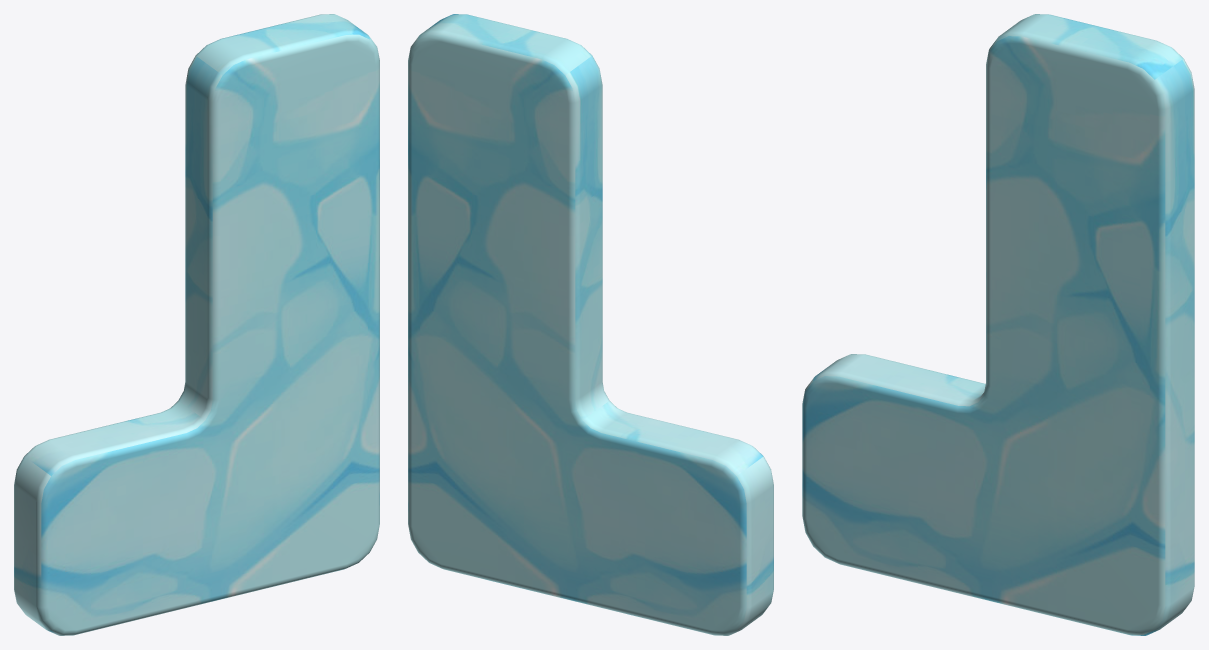
Rendered from Ice_ReverseLShape.fbx.
The picture shows the model from 3 angles, left to right: view 1: azimuth 30°, elevation 25°; view 2: azimuth 150°, elevation 25°; view 3: azimuth 330°, elevation 25°; orthographic projection. The views are drawn at different scales.
Visible parts, largest first — view 1: Ice_ReverseLShape; view 2: Ice_ReverseLShape; view 3: Ice_ReverseLShape.
Boxes of the visible parts, x1,y1,x2,y2 form: Ice_ReverseLShape: (14,14,379,635); Ice_ReverseLShape: (408,14,773,635); Ice_ReverseLShape: (802,14,1194,635).
Bounding box in the file's own units: 2 × 3 × 0.3.
1 material, 1 textured.
